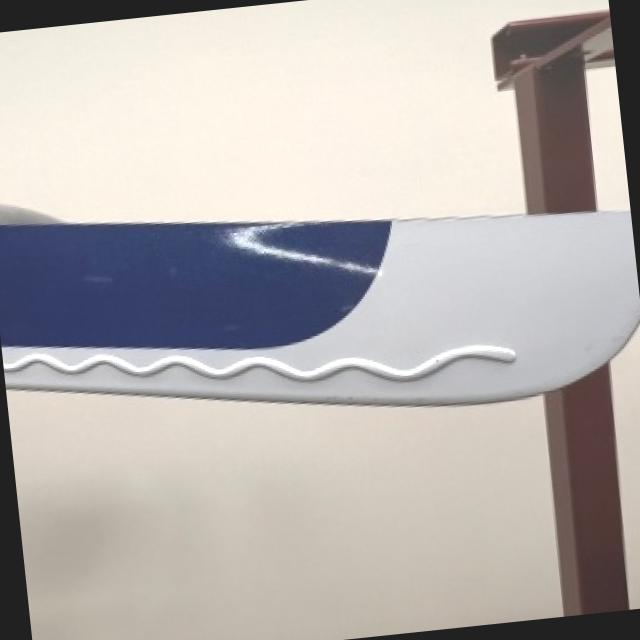healthy: (6, 391, 557, 640), (612, 330, 640, 604)
